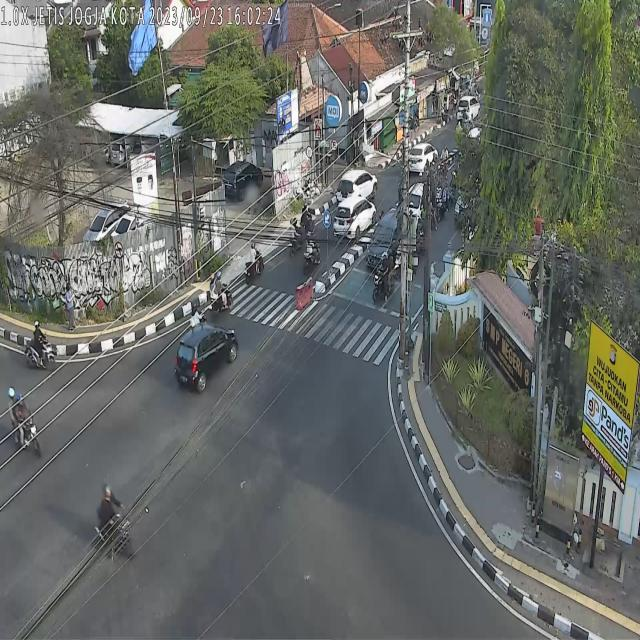car: (175, 323, 238, 392), (333, 197, 378, 240), (366, 209, 398, 264), (337, 170, 377, 206), (408, 183, 430, 230), (408, 142, 438, 175)
motorcycle: (93, 481, 135, 564), (7, 384, 41, 461), (23, 321, 55, 374), (372, 248, 395, 304), (210, 270, 232, 314), (244, 240, 264, 281), (304, 232, 322, 274), (288, 216, 304, 255), (300, 202, 315, 237), (190, 304, 207, 326)
